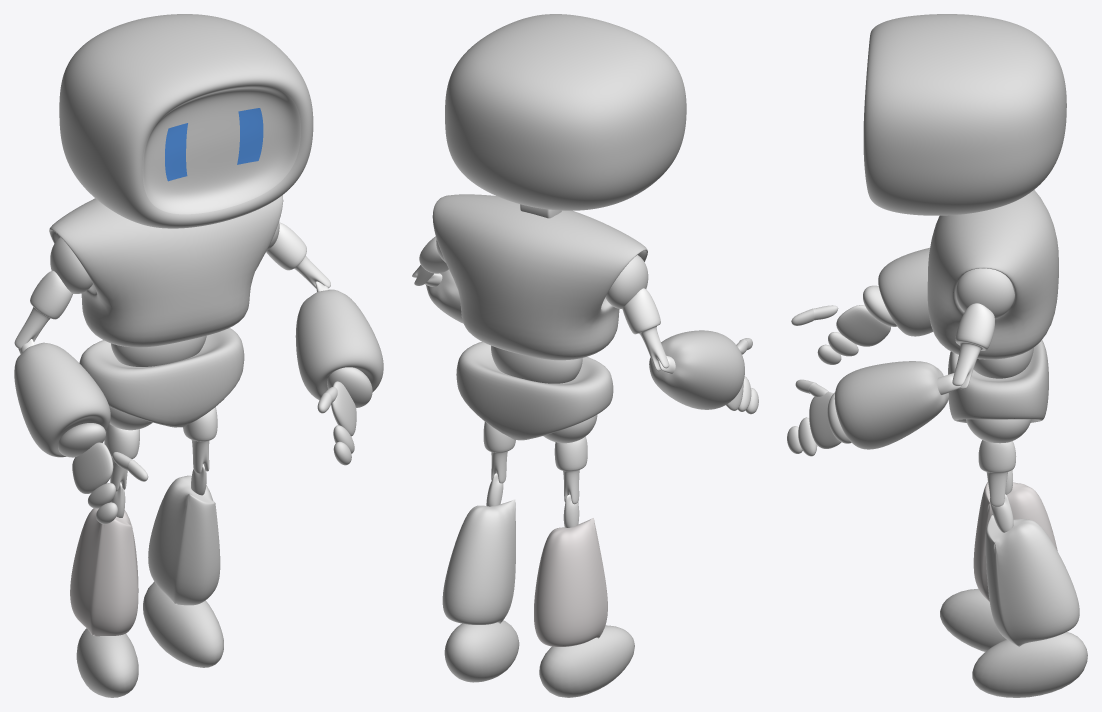
The model's file is RobMesh.fbx.
3 renders of one model, left to right at view 1: azimuth 30°, elevation 25°; view 2: azimuth 150°, elevation 25°; view 3: azimuth 270°, elevation 25°, orthographic. The views are drawn at different scales.
Parts seen in each view (by area): view 1: pCube3, Head______, Hips, L_Lowerleg2, R_Lowerleg2, R_restMuscle, L_restMuscle, L_Loowerleg3, R_Loowerleg3, R_UpperArm, LowBack, L_UpperArm (+8 smaller); view 2: pCube3, Head______, Hips, R_Lowerleg2, L_Lowerleg2, R_restMuscle, R_Loowerleg3, L_Loowerleg3, LowBack, R_UpperArm, R_UpperLeg, R_Shoulder (+4 smaller); view 3: pCube3, Head______, L_Lowerleg2, L_restMuscle, L_Loowerleg3, Hips, R_restMuscle, R_Loowerleg3, R_Lowerleg2, L_UpperArm, L_Shoulder, L_UpperLeg (+10 smaller).
Part boxes in pixels (x1=…): pCube3: x1=59, y1=14, x2=313, y2=228; Head______: x1=49, y1=195, x2=283, y2=347; Hips: x1=79, y1=328, x2=244, y2=427; L_Lowerleg2: x1=148, y1=475, x2=220, y2=605; R_Lowerleg2: x1=70, y1=508, x2=138, y2=636; R_restMuscle: x1=14, y1=342, x2=110, y2=457; L_restMuscle: x1=295, y1=289, x2=383, y2=399; L_Loowerleg3: x1=143, y1=581, x2=223, y2=667; R_Loowerleg3: x1=76, y1=628, x2=138, y2=697; R_UpperArm: x1=14, y1=270, x2=72, y2=348; LowBack: x1=111, y1=335, x2=206, y2=366; L_UpperArm: x1=266, y1=222, x2=330, y2=288; pCube3: x1=445, y1=14, x2=686, y2=210; Head______: x1=432, y1=194, x2=647, y2=360; Hips: x1=456, y1=341, x2=613, y2=440; R_Lowerleg2: x1=534, y1=518, x2=607, y2=646; L_Lowerleg2: x1=442, y1=499, x2=515, y2=624; R_restMuscle: x1=649, y1=330, x2=744, y2=409; R_Loowerleg3: x1=539, y1=625, x2=634, y2=697; L_Loowerleg3: x1=444, y1=620, x2=519, y2=682; LowBack: x1=491, y1=345, x2=582, y2=383; R_UpperArm: x1=622, y1=288, x2=669, y2=371; R_UpperLeg: x1=554, y1=436, x2=587, y2=504; R_Shoulder: x1=605, y1=255, x2=648, y2=309; pCube3: x1=863, y1=14, x2=1066, y2=215; Head______: x1=927, y1=190, x2=1058, y2=359; L_Lowerleg2: x1=985, y1=514, x2=1079, y2=646; L_restMuscle: x1=834, y1=361, x2=949, y2=449; L_Loowerleg3: x1=972, y1=632, x2=1087, y2=697; Hips: x1=948, y1=340, x2=1048, y2=422; R_restMuscle: x1=878, y1=247, x2=933, y2=336; R_Loowerleg3: x1=940, y1=588, x2=1006, y2=651; R_Lowerleg2: x1=973, y1=482, x2=1057, y2=601; L_UpperArm: x1=952, y1=303, x2=994, y2=389; L_Shoulder: x1=956, y1=268, x2=1014, y2=318; L_UpperLeg: x1=978, y1=440, x2=1016, y2=506.
Size of the model in its own units: 114 by 221 by 94.02.
